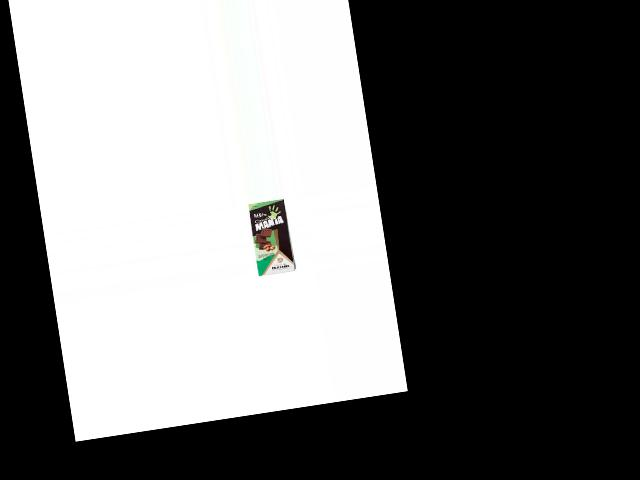chocolate: (245, 197, 297, 278)
